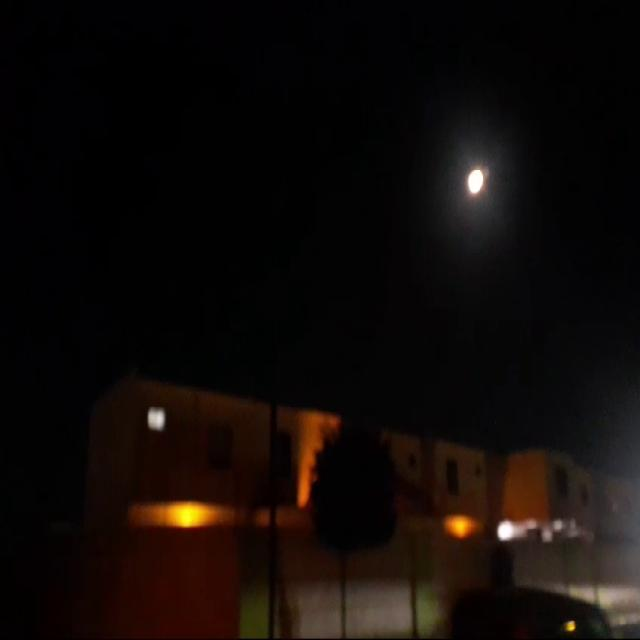moon: (470, 164, 489, 198)
